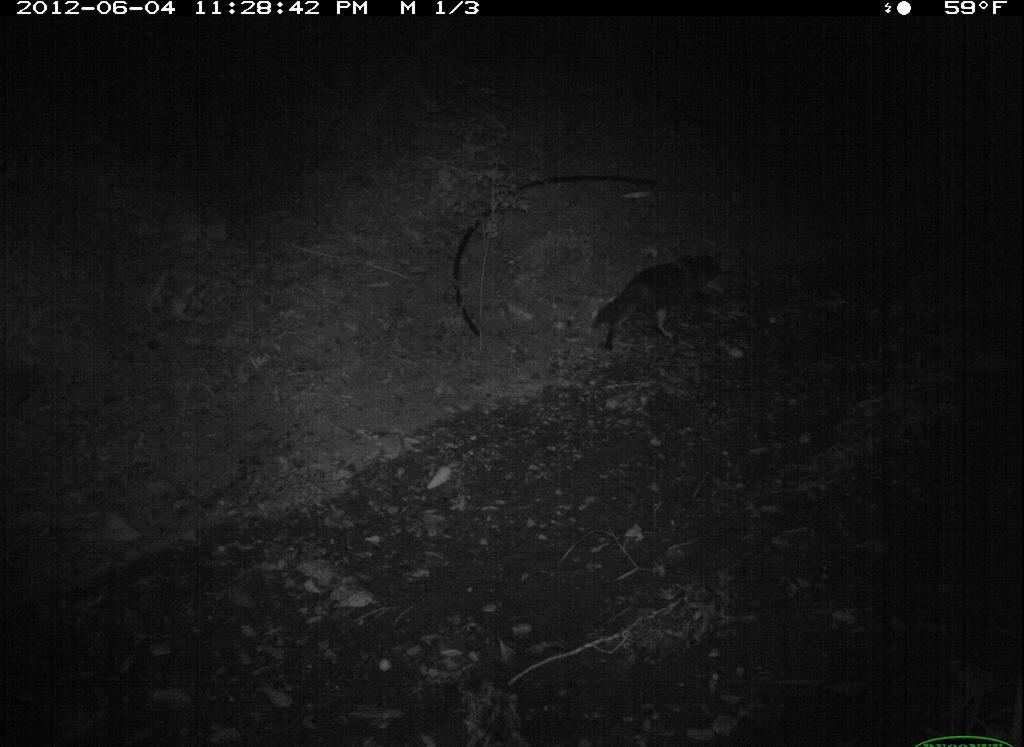cat: (587, 235, 731, 354)
